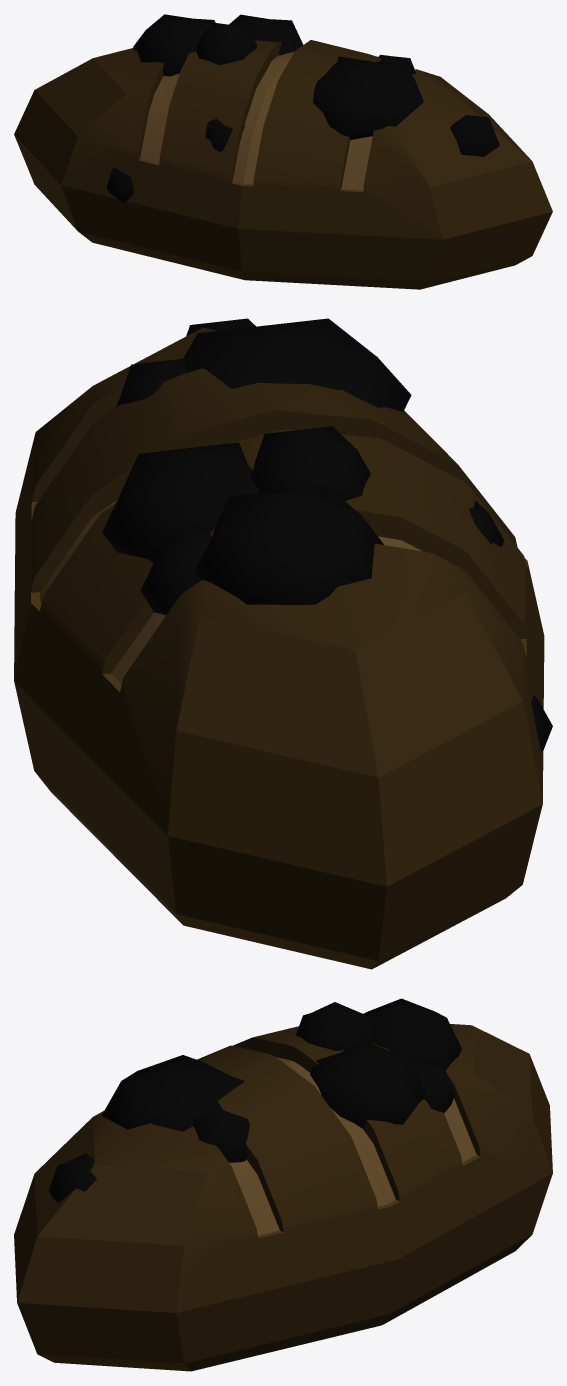
File: RottenBread1.fbx
3 renders of one model, top to bottom at view 1: azimuth 30°, elevation 25°; view 2: azimuth 150°, elevation 25°; view 3: azimuth 270°, elevation 25°, orthographic. The views are drawn at different scales.
Parts seen in each view (by area): view 1: pCube18; view 2: pCube18; view 3: pCube18.
Boxes of the visible parts, box(x1,y1,x2,y2) form: pCube18: box(14, 14, 552, 289); pCube18: box(14, 318, 552, 969); pCube18: box(14, 998, 552, 1371).
Size of the model in its own units: 27.77 by 14.89 by 29.03.
